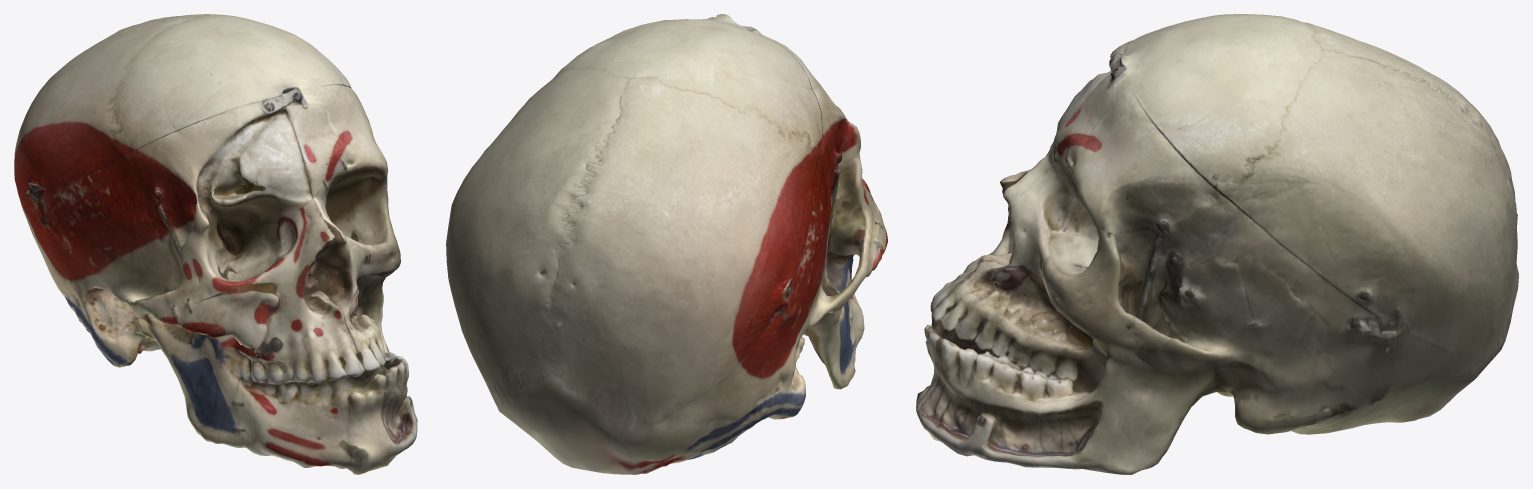
Rendered from Model-mobile.glb.
3 views of the same model, side by side, from view 1: azimuth 30°, elevation 25°; view 2: azimuth 150°, elevation 25°; view 3: azimuth 270°, elevation 25° (orthographic). The views are drawn at different scales.
Visible parts, largest first — view 1: model; view 2: model; view 3: model.
Part boxes in pixels (bbox=[...]): model: bbox=[14, 14, 417, 474]; model: bbox=[446, 14, 887, 474]; model: bbox=[916, 14, 1518, 474].
Bounding box in the file's own units: 0.8497 × 0.9621 × 1.33.
Materials: 1 (1 with a texture image).
